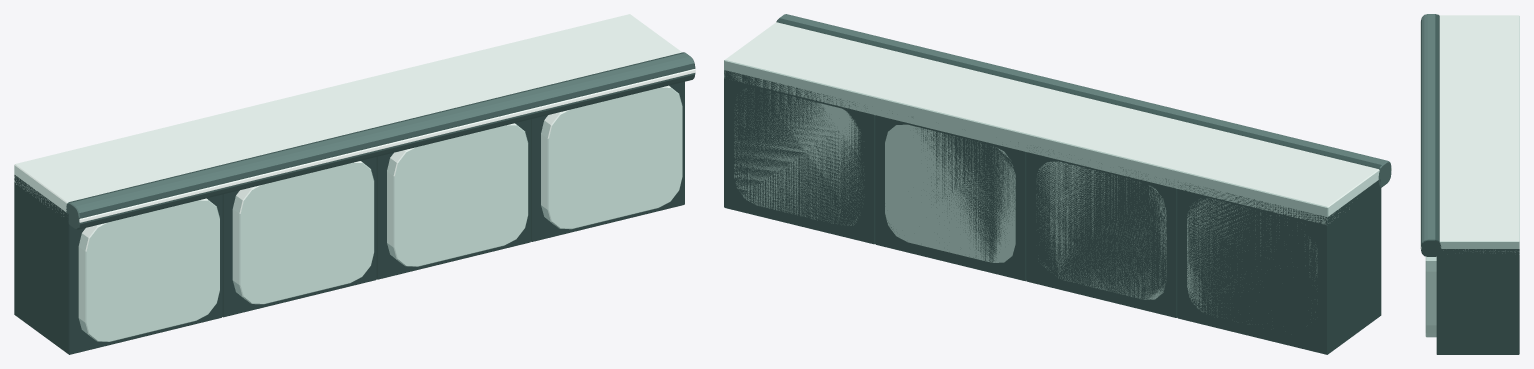
The model's file is Terrain_TopRun4.gltf.
3 views of the same model, side by side, from view 1: azimuth 30°, elevation 25°; view 2: azimuth 150°, elevation 25°; view 3: azimuth 270°, elevation 25° (orthographic). The views are drawn at different scales.
Parts seen in each view (by area): view 1: Terrain_TopRun4_baked; view 2: Terrain_TopRun4_baked; view 3: Terrain_TopRun4_baked.
Part boxes in pixels (<box>): Terrain_TopRun4_baked: <box>14,14,695,354</box>; Terrain_TopRun4_baked: <box>724,14,1391,354</box>; Terrain_TopRun4_baked: <box>1420,14,1519,354</box>.
Size of the model in its own units: 4 by 0.9495 by 0.74.
